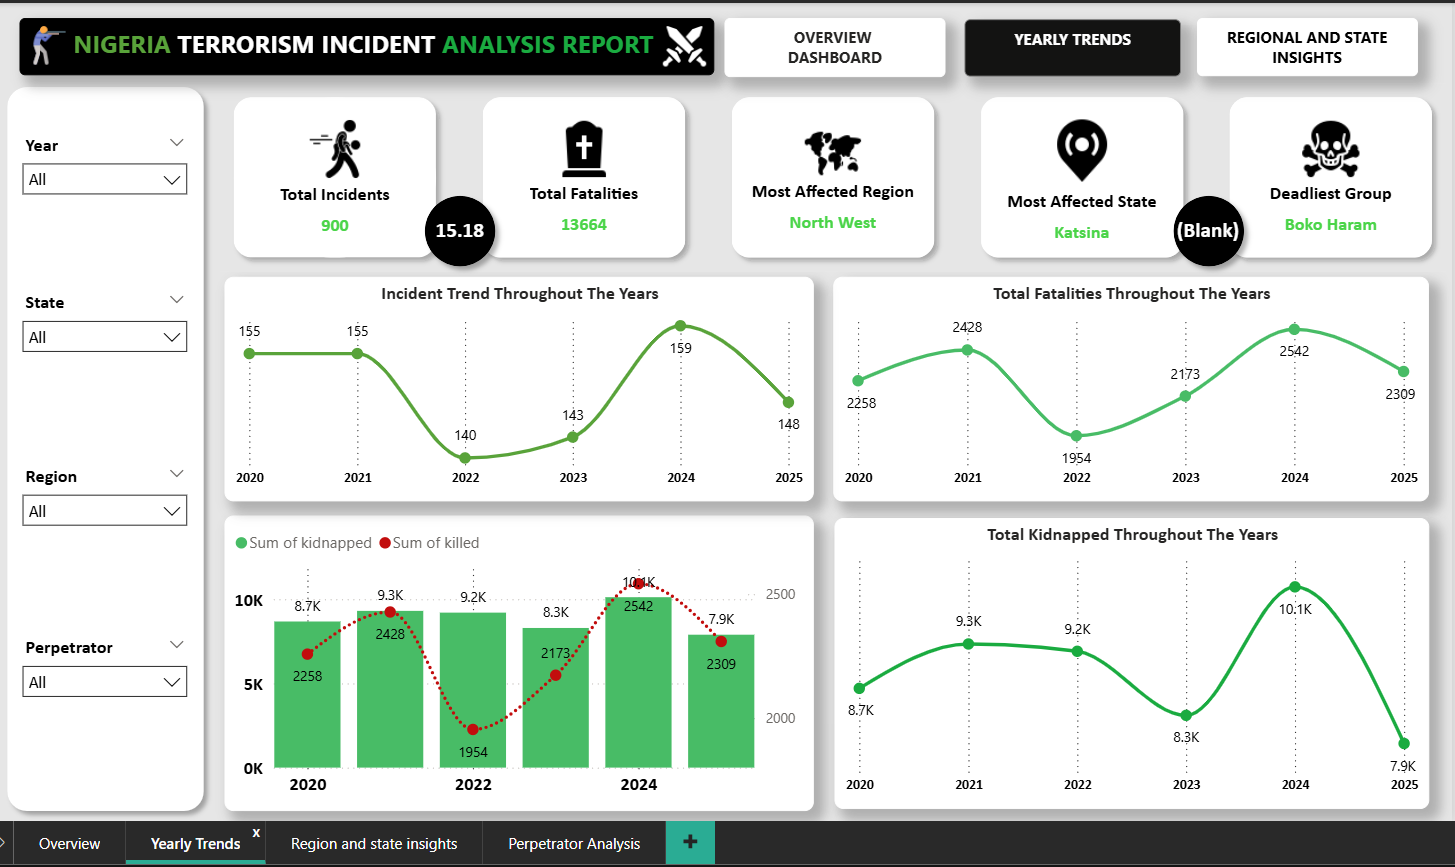

Layout of this report page (visuals, bound fields, positions):
{"tool":"powerbi","page":{"name":"Yearly Trends","canvas":[1280,720],"ordinal":1},"visuals":[{"type":"shape","box":[0,64.4,190.8,654.9],"z":0},{"type":"slicer","fields":{"Values":["nigeria_security_incidents.year"]},"box":[12.4,109.5,164.9,72.3],"z":1000},{"type":"slicer","fields":{"Values":["nigeria_security_incidents.state"]},"box":[12.4,248.4,164.9,75.7],"z":2000},{"type":"slicer","fields":{"Values":["nigeria_security_incidents.region"]},"box":[12.4,400.8,164.9,73.4],"z":3000},{"type":"slicer","fields":{"Values":["nigeria_security_incidents.perpetrator"]},"box":[12.4,552.2,164.9,88.1],"z":4000},{"type":"lineStackedColumnComboChart","fields":{"Category":["nigeria_security_incidents.year"],"Y":["Sum(nigeria_security_incidents.kidnapped)"],"Y2":["Sum(nigeria_security_incidents.killed)"]},"box":[199.9,450.5,518.3,259.7],"z":5000},{"type":"lineChart","title":"Total Fatalities Throughout The Years","fields":{"Category":["nigeria_security_incidents.date.Variation.Date Hierarchy.Year","nigeria_security_incidents.date.Variation.Date Hierarchy.Month"],"Y":["Sum(nigeria_security_incidents.killed)"]},"box":[735.1,240.5,523.9,197.6],"z":6000},{"type":"lineChart","title":"Incident Trend Throughout The Years","fields":{"Category":["nigeria_security_incidents.date.Variation.Date Hierarchy.Year","nigeria_security_incidents.date.Variation.Date Hierarchy.Month"],"Y":["nigeria_security_incidents.Total Incidents"]},"box":[199.9,240.5,518.3,197.6],"z":7000},{"type":"cardVisual","fields":{"Data":["nigeria_security_incidents.Total Incidents","Sum(nigeria_security_incidents.killed)","nigeria_security_incidents.Most Affected Region","nigeria_security_incidents.Most Affected State","nigeria_security_incidents.Deadliest Grou"]},"box":[190.8,65.5,1089.6,175],"z":8000},{"type":"textbox","box":[19.8,13.2,611.4,50.6],"z":9000},{"type":"textbox","box":[851.2,14,190.7,50],"z":10000},{"type":"textbox","box":[640,13.2,194.6,51.7],"z":11000},{"type":"textbox","box":[1055.8,12.8,194.2,51.2],"z":12000},{"type":"image","box":[19.8,12.1,52.8,50.6],"z":13000},{"type":"shape","box":[367,160.3,80.2,80.2],"z":14000},{"type":"card","fields":{"Values":["nigeria_security_incidents.Average Fatalities Per Attack"]},"box":[370.4,173.9,73.4,53.1],"z":15000},{"type":"shape","box":[1026.4,160.3,80.2,80.2],"z":16000},{"type":"card","fields":{"Values":["yearly_incidents_summary.YoY Incidents %"]},"box":[1024.1,178.4,83.6,45.2],"z":17000},{"type":"image","box":[578.1,12.4,53.1,51.9],"z":18000},{"type":"lineChart","title":"Total Kidnapped Throughout The Years","fields":{"Category":["nigeria_security_incidents.date.Variation.Date Hierarchy.Year","nigeria_security_incidents.date.Variation.Date Hierarchy.Month"],"Y":["Sum(nigeria_security_incidents.kidnapped)"]},"box":[737.2,453.5,523.3,255.8],"z":19000}]}

Visuals, with their boxes on the page's 1280x720 design canvas (x1, y1, x2, y2). These are canvas units, not pixel positions in the 1455x867 screenshot, which may show the page scaled, cropped or inside an application window:
shape: pyautogui.locateOnScreen(0, 64, 191, 719)
slicer - nigeria_security_incidents.year: pyautogui.locateOnScreen(12, 110, 177, 182)
slicer - nigeria_security_incidents.state: pyautogui.locateOnScreen(12, 248, 177, 324)
slicer - nigeria_security_incidents.region: pyautogui.locateOnScreen(12, 401, 177, 474)
slicer - nigeria_security_incidents.perpetrator: pyautogui.locateOnScreen(12, 552, 177, 640)
lineStackedColumnComboChart - nigeria_security_incidents.year x Sum(nigeria_security_incidents.kidnapped): pyautogui.locateOnScreen(200, 450, 718, 710)
"Total Fatalities Throughout The Years" lineChart: pyautogui.locateOnScreen(735, 240, 1259, 438)
"Incident Trend Throughout The Years" lineChart: pyautogui.locateOnScreen(200, 240, 718, 438)
cardVisual - nigeria_security_incidents.Total Incidents x Sum(nigeria_security_incidents.killed): pyautogui.locateOnScreen(191, 66, 1280, 240)
textbox: pyautogui.locateOnScreen(20, 13, 631, 64)
textbox: pyautogui.locateOnScreen(851, 14, 1042, 64)
textbox: pyautogui.locateOnScreen(640, 13, 835, 65)
textbox: pyautogui.locateOnScreen(1056, 13, 1250, 64)
image: pyautogui.locateOnScreen(20, 12, 73, 63)
shape: pyautogui.locateOnScreen(367, 160, 447, 240)
card - nigeria_security_incidents.Average Fatalities Per Attack: pyautogui.locateOnScreen(370, 174, 444, 227)
shape: pyautogui.locateOnScreen(1026, 160, 1107, 240)
card - yearly_incidents_summary.YoY Incidents %: pyautogui.locateOnScreen(1024, 178, 1108, 224)
image: pyautogui.locateOnScreen(578, 12, 631, 64)
"Total Kidnapped Throughout The Years" lineChart: pyautogui.locateOnScreen(737, 454, 1260, 709)
